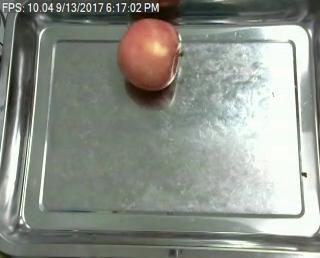apple: (117, 19, 184, 90)
